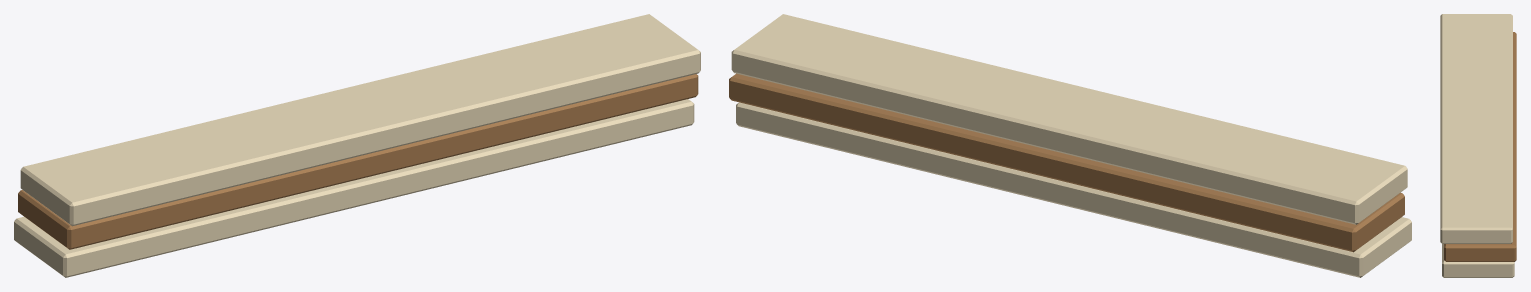
Rendered from planks.glb.
3 renders of one model, left to right at view 1: azimuth 30°, elevation 25°; view 2: azimuth 150°, elevation 25°; view 3: azimuth 270°, elevation 25°, orthographic. The views are drawn at different scales.
Parts seen in each view (by area): view 1: planks; view 2: planks; view 3: planks.
Boxes of the visible parts, box(x1,y1,x2,y2) form: planks: box(14, 14, 700, 277); planks: box(729, 14, 1411, 277); planks: box(1440, 14, 1516, 277).
Size of the model in its own units: 0.9886 by 0.111 by 0.1473.
